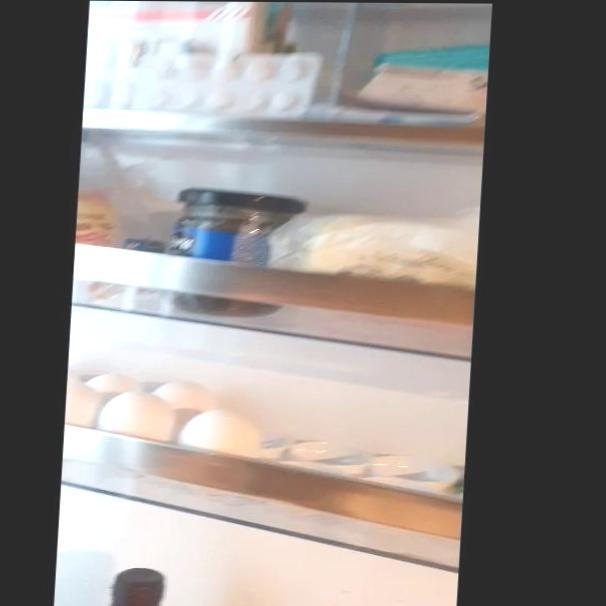eggs: (99, 390, 184, 445), (179, 407, 262, 454), (69, 376, 106, 430)
